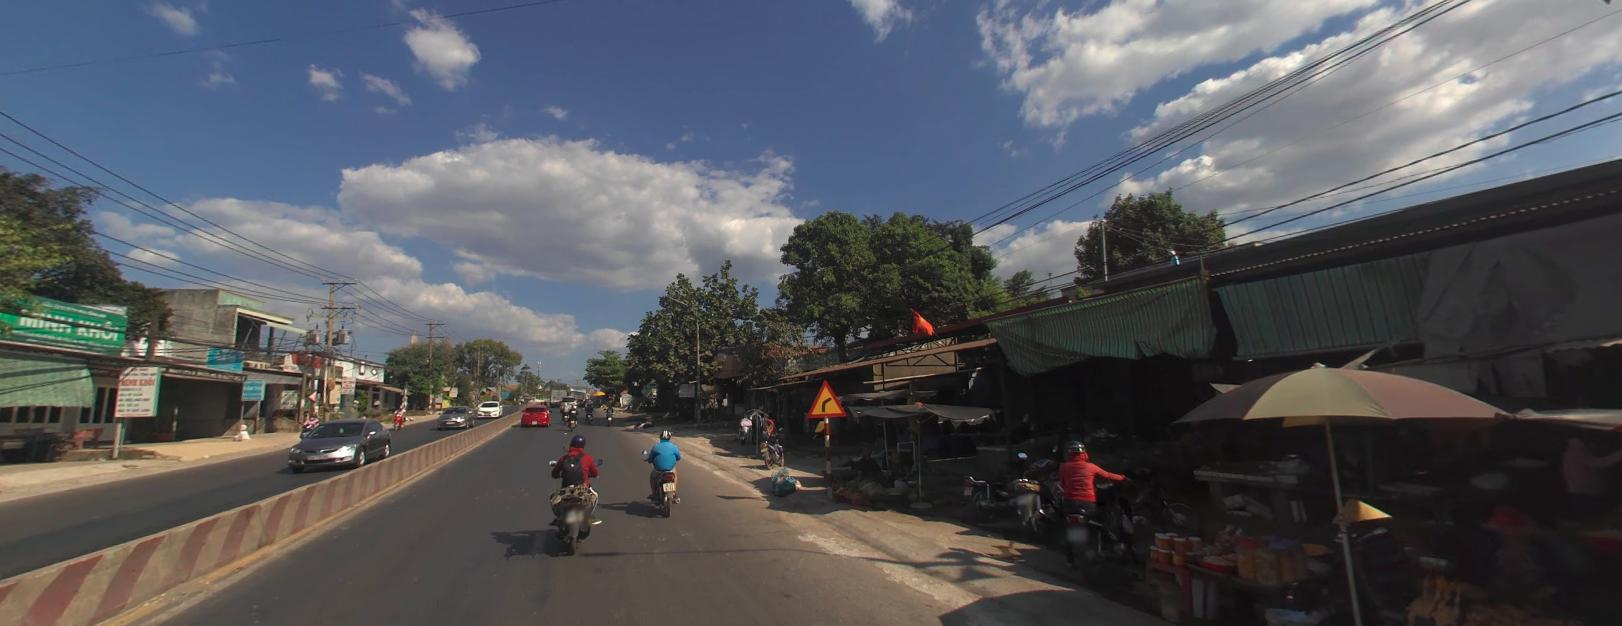Nguy hiem: (805, 376, 848, 416)
